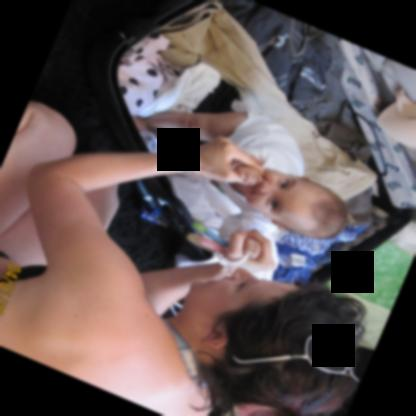suitcase: (84, 0, 416, 286)
